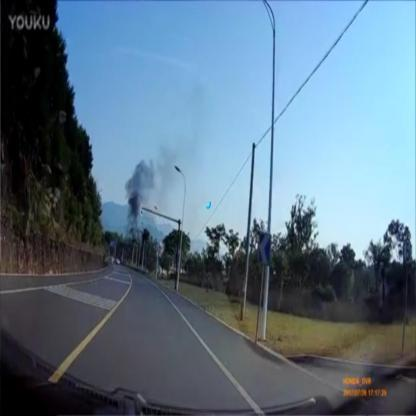smoke: (121, 158, 156, 235)
